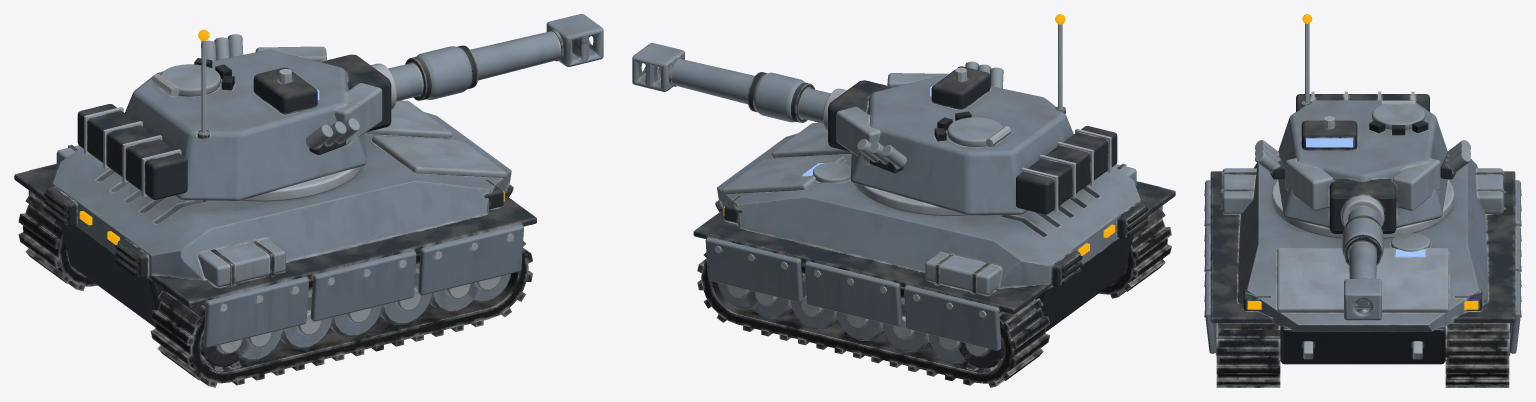
The model's file is guardian.glb.
The picture shows the model from 3 angles, left to right: view 1: azimuth 30°, elevation 25°; view 2: azimuth 150°, elevation 25°; view 3: azimuth 270°, elevation 25°; orthographic projection. The views are drawn at different scales.
Parts seen in each view (by area): view 1: Hull, TurretBody, Tracks; view 2: Hull, TurretBody, Tracks; view 3: Hull, TurretBody, Tracks.
Boxes of the visible parts, x1=… form: Hull: x1=14, y1=100, x2=536, y2=347; TurretBody: x1=77, y1=14, x2=603, y2=201; Tracks: x1=18, y1=193, x2=532, y2=387; Hull: x1=693, y1=122, x2=1175, y2=350; TurretBody: x1=632, y1=14, x2=1117, y2=215; Tracks: x1=697, y1=209, x2=1171, y2=387; Hull: x1=1204, y1=159, x2=1521, y2=364; TurretBody: x1=1255, y1=14, x2=1470, y2=320; Tracks: x1=1215, y1=323, x2=1510, y2=387.
Size of the model in its own units: 5.07 by 3 by 3.19.
Materials: 5 (3 with a texture image).
